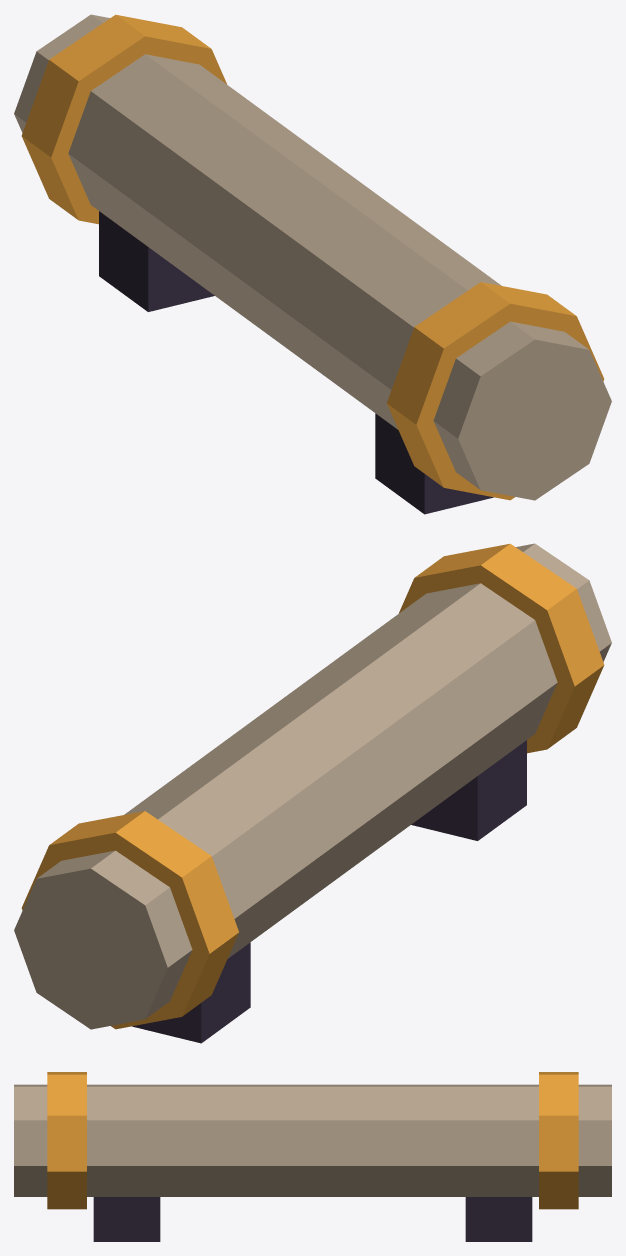
File: pipe-segment.glb
3 renders of one model, top to bottom at view 1: azimuth 30°, elevation 25°; view 2: azimuth 150°, elevation 25°; view 3: azimuth 270°, elevation 25°, orthographic. The views are drawn at different scales.
Parts seen in each view (by area): view 1: factory-pipe-segment; view 2: factory-pipe-segment; view 3: factory-pipe-segment.
Part boxes in pixels (x1,y1,x2,y2): factory-pipe-segment: [14, 14, 611, 514]; factory-pipe-segment: [14, 543, 611, 1043]; factory-pipe-segment: [14, 1072, 611, 1241].
Size of the model in its own units: 0.22 by 0.25 by 0.9.
